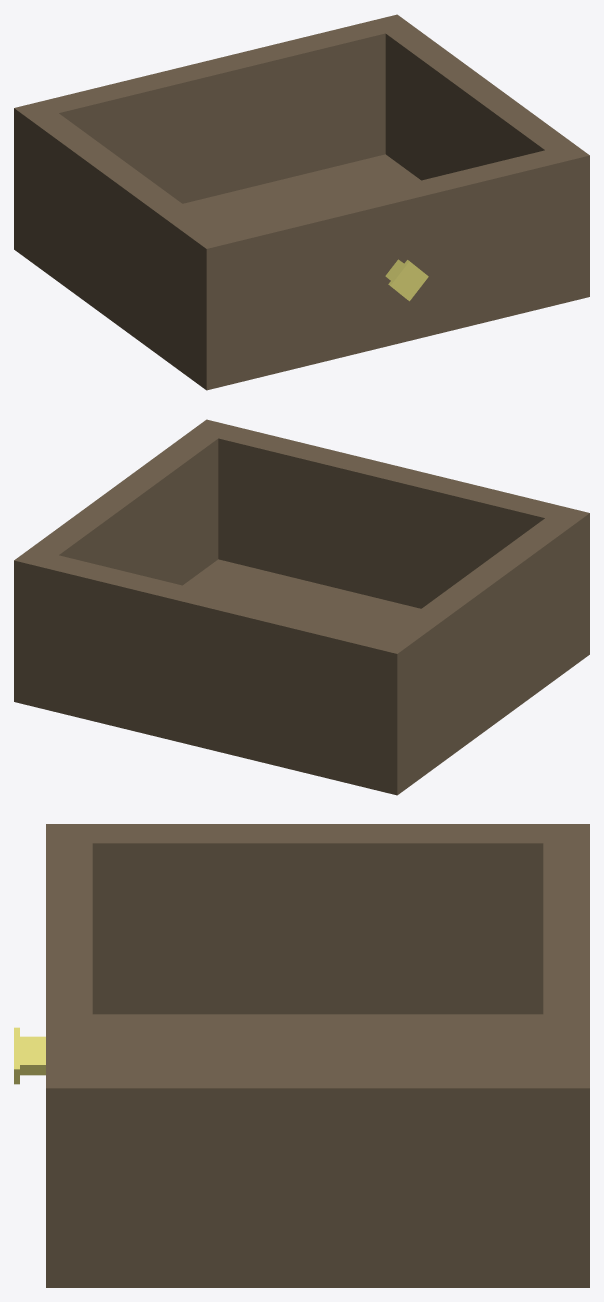
Rendered from Itr_Bed_Bunk2_Drawer2_03.FBX.
3 views of the same model, one above another, from view 1: azimuth 30°, elevation 25°; view 2: azimuth 150°, elevation 25°; view 3: azimuth 270°, elevation 25° (orthographic). The views are drawn at different scales.
Parts seen in each view (by area): view 1: Itr_Bed_Bunk2_Drawer2_03; view 2: Itr_Bed_Bunk2_Drawer2_03; view 3: Itr_Bed_Bunk2_Drawer2_03.
Boxes of the visible parts, x1,y1,x2,y2 form: Itr_Bed_Bunk2_Drawer2_03: [14, 14, 589, 390]; Itr_Bed_Bunk2_Drawer2_03: [14, 419, 589, 795]; Itr_Bed_Bunk2_Drawer2_03: [14, 824, 589, 1287].
Size of the model in its own units: 45.13 by 15.91 by 41.58.
